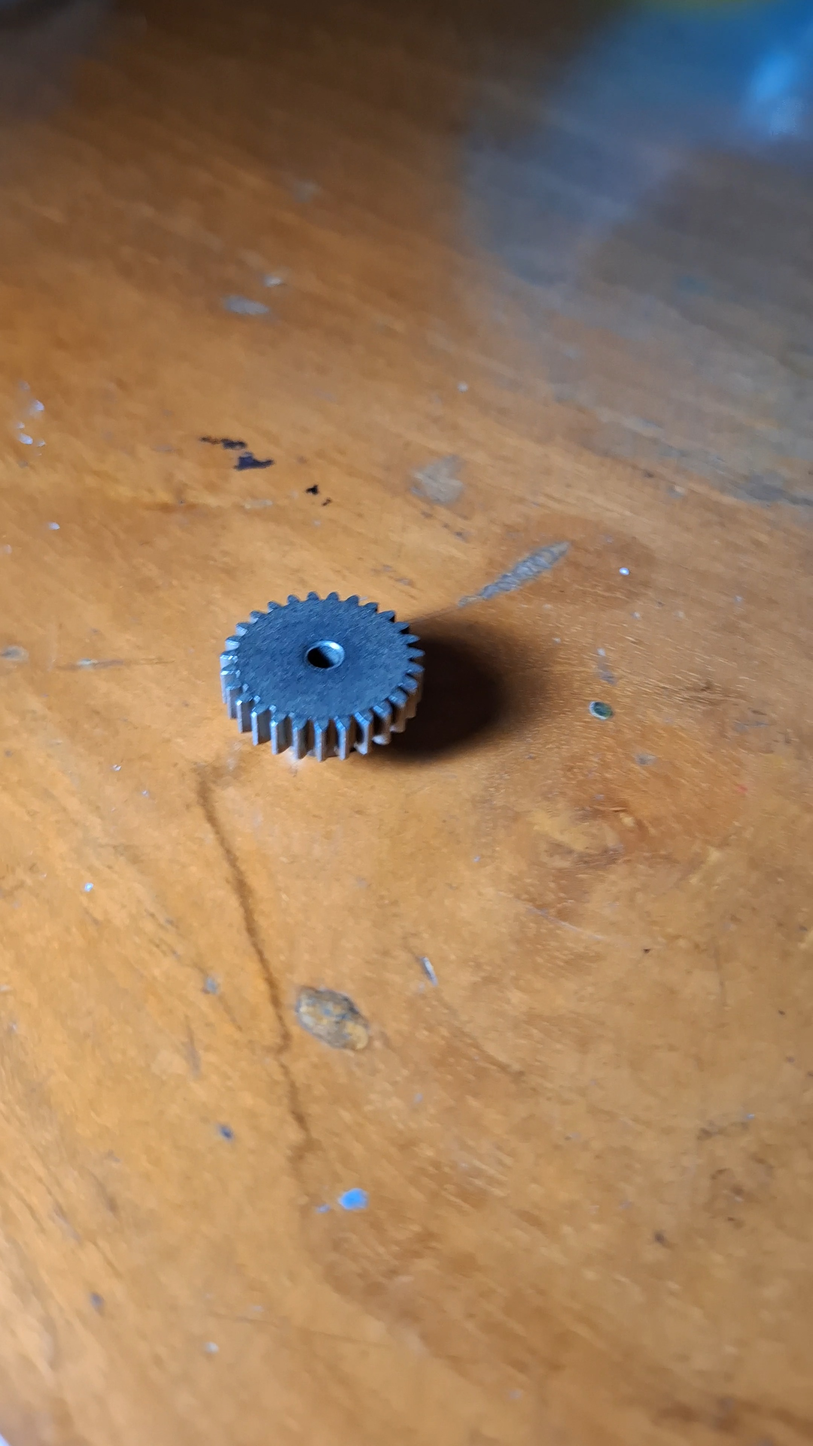spur gear: (221, 592, 423, 760)
